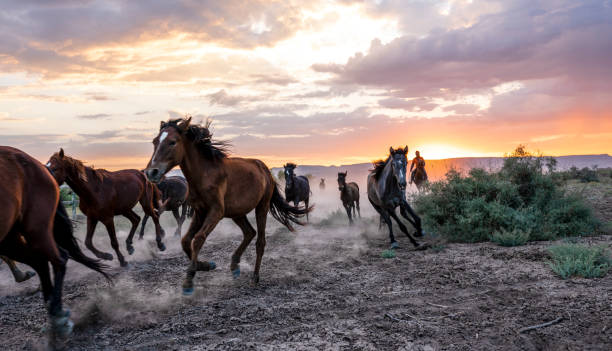Horse: (131, 97, 295, 303), (37, 136, 184, 269), (355, 140, 440, 264)
